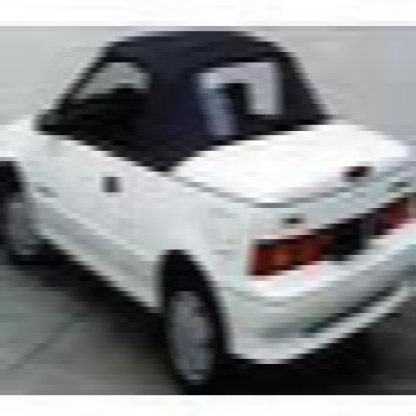Vehicle: (4, 31, 412, 406)
